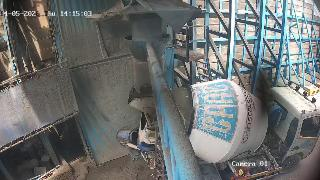cement_mixer_truck: (126, 79, 320, 180)
swing_chute: (125, 34, 170, 96)
